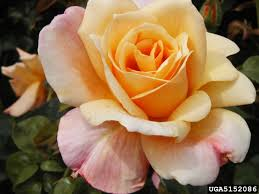rose: (80, 7, 213, 147)
